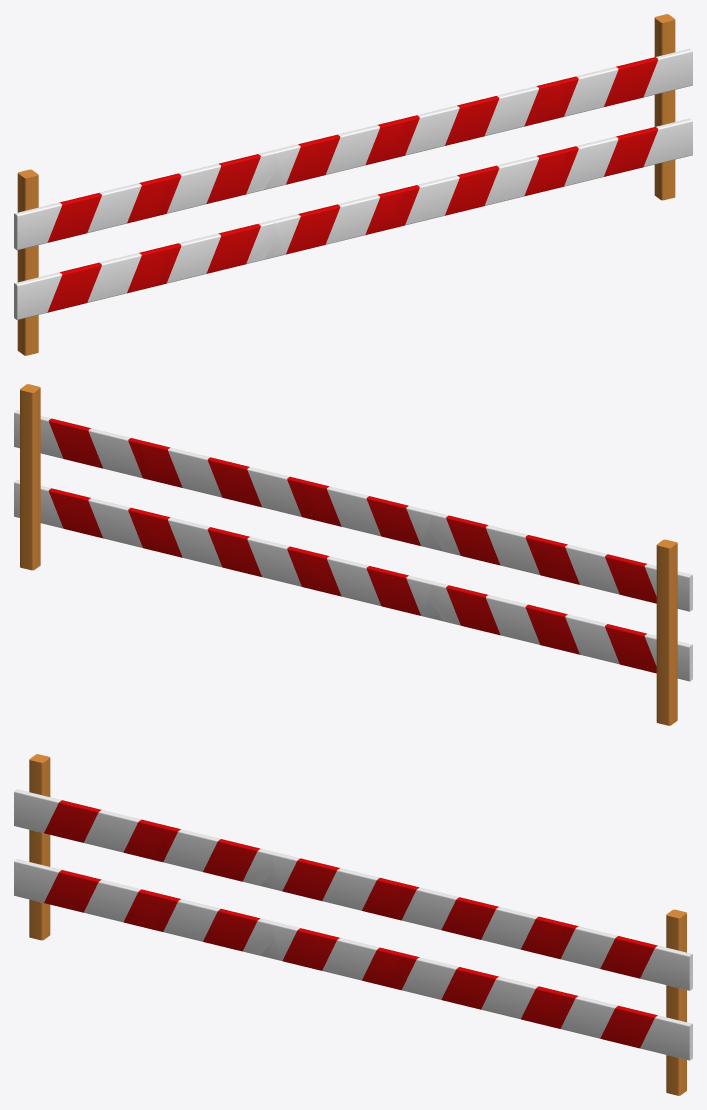
File: engelParcali.fbx
3 renders of one model, top to bottom at view 1: azimuth 30°, elevation 25°; view 2: azimuth 150°, elevation 25°; view 3: azimuth 330°, elevation 25°, orthographic.
Parts seen in each view (by area): view 1: Cube.004, Cube.001, Cube.008, Cube.012, Cube.007, Cube.011, Cube.010, Cube.006, Cube.009, Cube.005, Cube.003, Cube.002; view 2: Cube.001, Cube.004, Cube.012, Cube.008, Cube.006, Cube.010, Cube.011, Cube.007, Cube.005, Cube.009, Cube.003, Cube.002; view 3: Cube.001, Cube.004, Cube.012, Cube.008, Cube.007, Cube.011, Cube.010, Cube.006, Cube.009, Cube.005, Cube.003, Cube.002.
Boxes of the visible parts, box(x1,y1,x2,y2) form: Cube.004: box(391, 79, 567, 158); Cube.001: box(391, 149, 567, 228); Cube.008: box(14, 177, 168, 250); Cube.012: box(14, 247, 168, 319); Cube.007: box(556, 48, 692, 117); Cube.011: box(556, 118, 692, 187); Cube.010: box(264, 188, 405, 259); Cube.006: box(264, 118, 405, 189); Cube.009: box(157, 220, 277, 285); Cube.005: box(157, 150, 277, 215); Cube.003: box(17, 169, 38, 355); Cube.002: box(654, 14, 675, 200); Cube.001: box(138, 510, 315, 589); Cube.004: box(139, 440, 315, 519); Cube.012: box(538, 608, 692, 681); Cube.008: box(538, 538, 692, 611); Cube.006: box(301, 480, 442, 551); Cube.010: box(301, 550, 443, 621); Cube.011: box(14, 480, 150, 549); Cube.007: box(14, 410, 150, 479); Cube.005: box(429, 512, 549, 577); Cube.009: box(429, 582, 549, 647); Cube.003: box(656, 539, 677, 725); Cube.002: box(20, 384, 40, 570); Cube.001: box(388, 954, 567, 1027); Cube.004: box(388, 884, 567, 957); Cube.012: box(14, 859, 164, 929); Cube.008: box(14, 789, 164, 859); Cube.007: box(553, 923, 692, 990); Cube.011: box(553, 993, 692, 1060); Cube.010: box(260, 922, 405, 987); Cube.006: box(260, 852, 405, 917); Cube.009: box(153, 895, 274, 955); Cube.005: box(154, 825, 273, 885); Cube.003: box(29, 754, 50, 940); Cube.002: box(666, 909, 686, 1095).
Bounding box in the file's own units: 272 × 68.23 × 8.14.
